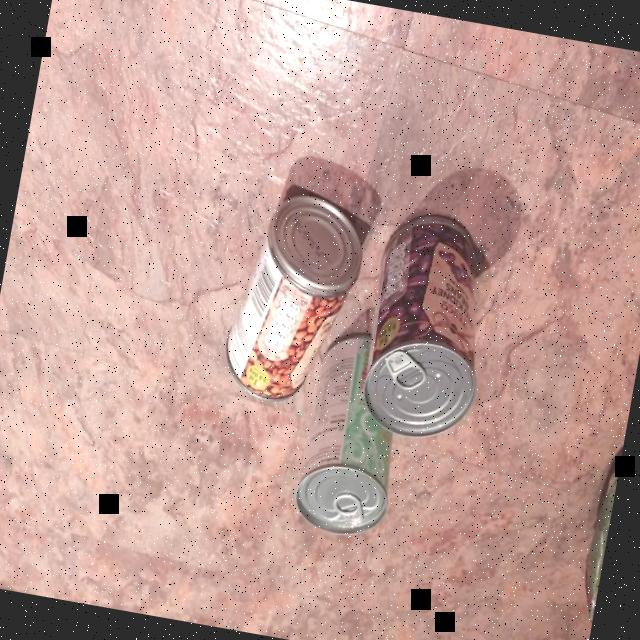can: (210, 180, 373, 418), (352, 203, 506, 447), (286, 324, 416, 542)
